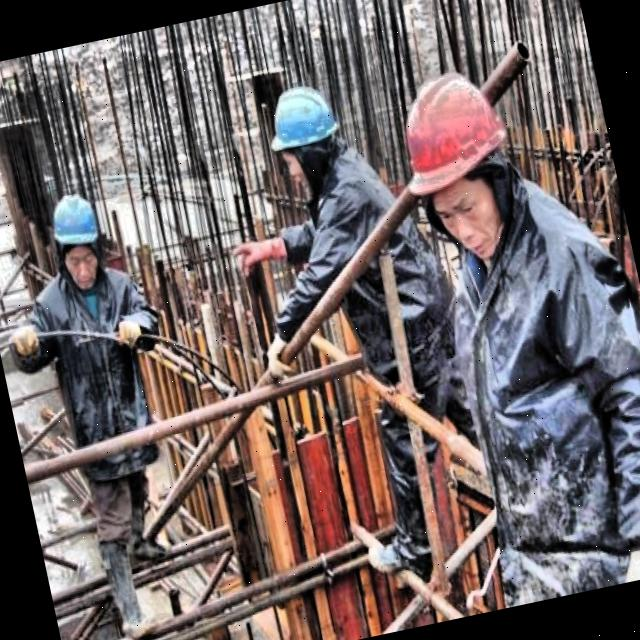helmet: (381, 46, 535, 266), (258, 72, 354, 196), (44, 186, 114, 293)
